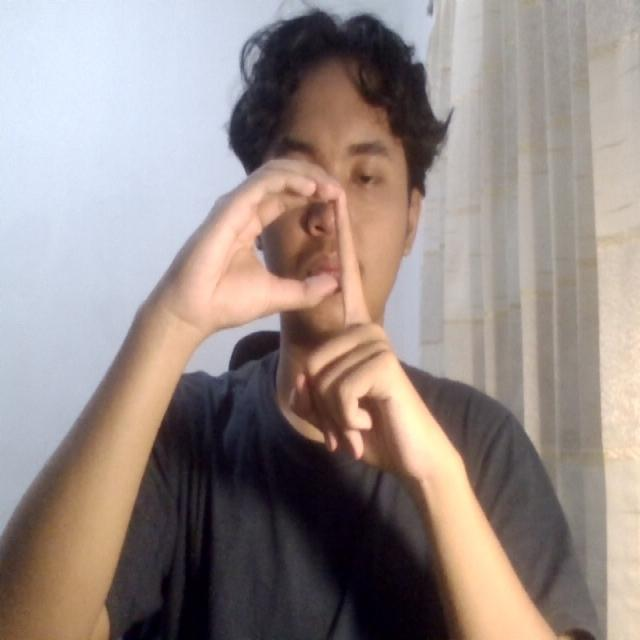D: (189, 148, 453, 488)
